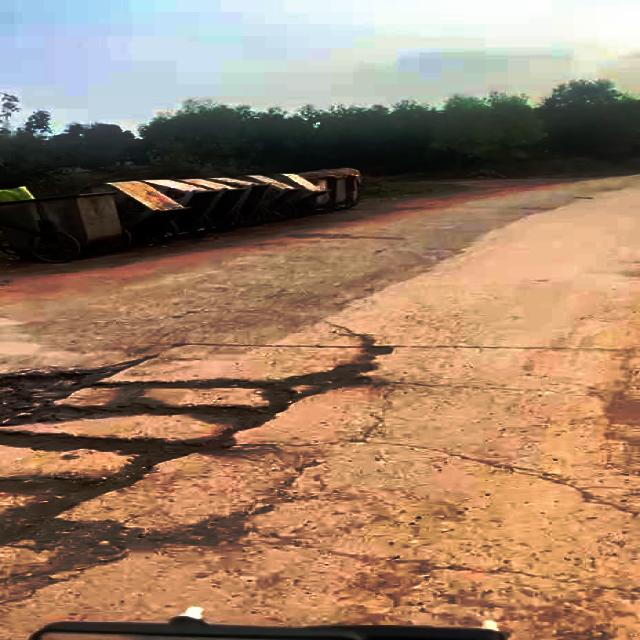pothole: (0, 340, 407, 578)
